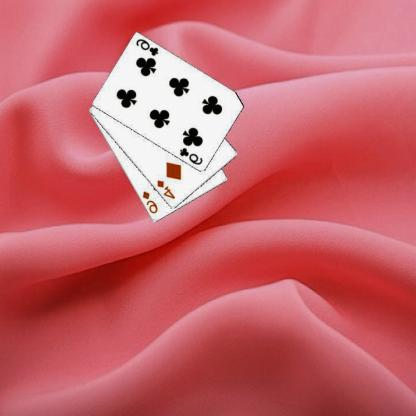4D: (156, 178, 178, 200)
6C: (136, 36, 162, 58), (179, 145, 206, 166)
9D: (142, 189, 160, 215)
